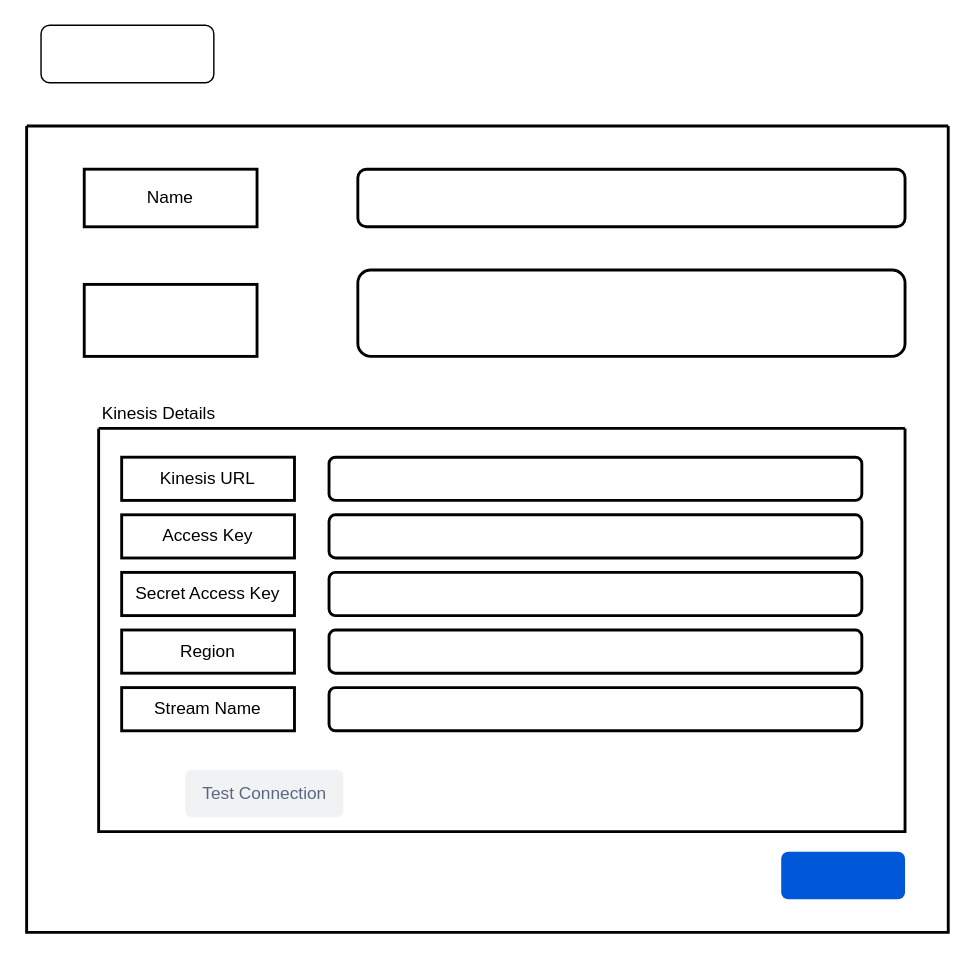
Image size: 973x959. Some labels were removed from this diagram. Here are the shapes that lost their labels. From the top down, the centre of each, then its label:
At point (127, 53): "Add Data Store".
At point (170, 319): "Description".
At point (842, 875): "Submit".
